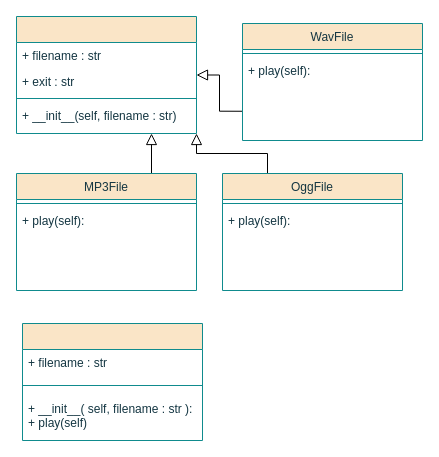
Image size: 439x457. Some labels were removed from this diagram. Here are the shapes that lost their labels. From the top down, the box of each, then its label:
(16, 16, 196, 134): AudioFile
(22, 322, 202, 440): FlacFile
